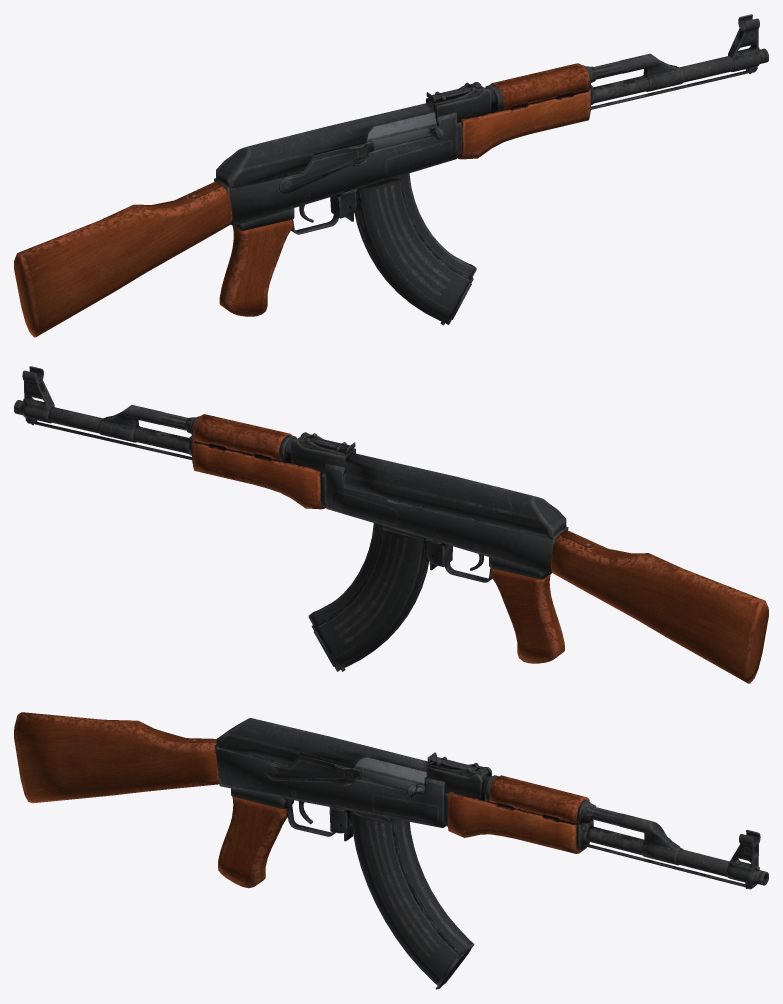
3 renders of one model, top to bottom at view 1: azimuth 30°, elevation 25°; view 2: azimuth 150°, elevation 25°; view 3: azimuth 330°, elevation 25°, orthographic.
Parts seen in each view (by area): view 1: AK47; view 2: AK47; view 3: AK47.
Part boxes in pixels (<box>): AK47: <box>14,14,768,337</box>; AK47: <box>14,366,768,683</box>; AK47: <box>14,712,768,989</box>.
Size of the model in its own units: 0.9905 by 0.2923 by 0.058.
1 material, 1 textured.
